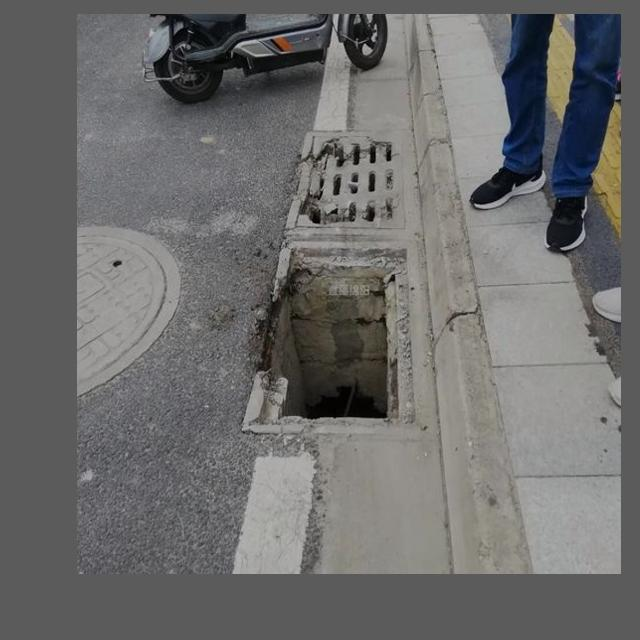lose: (235, 223, 439, 451)
